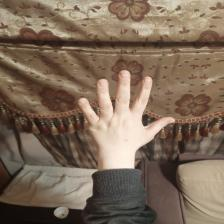five: (77, 69, 176, 154)
